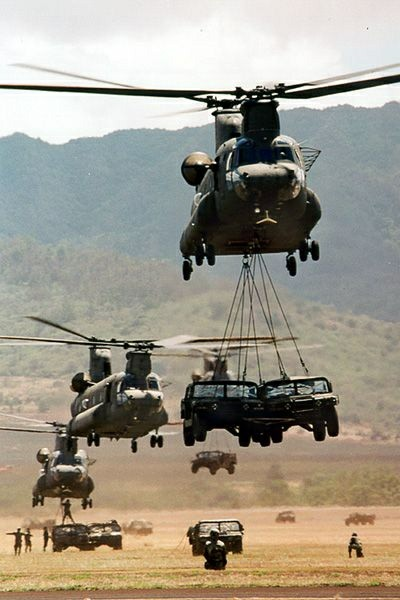HMMWV: (185, 359, 343, 451), (46, 517, 127, 554), (185, 512, 253, 553), (189, 448, 243, 480)
chinook: (170, 86, 335, 285), (51, 318, 180, 455), (22, 420, 101, 514)
